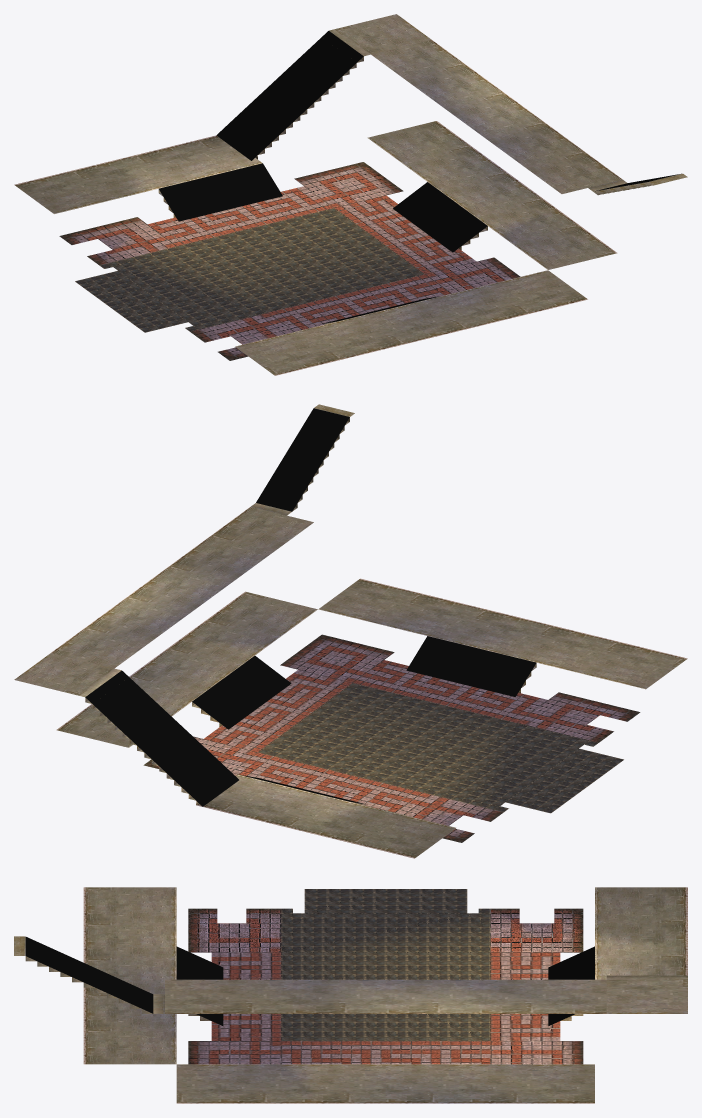
The model's file is M7_CourtYard.glb.
3 views of the same model, one above another, from view 1: azimuth 30°, elevation 25°; view 2: azimuth 150°, elevation 25°; view 3: azimuth 270°, elevation 25° (orthographic). The views are drawn at different scales.
Parts seen in each view (by area): view 1: M7_COURTYARD008, M7_COURTYARD005, M7_COURTYARD007, M7_COURTYARD004, M7_COURTYARD011, M7_COURTYARD006, M7_COURTYARD010, M7_COURTYARD003, M7_COURTYARD001, M7_COURTYARD009, M7_COURTYARD002, M7_COURTYARD; view 2: M7_COURTYARD005, M7_COURTYARD008, M7_COURTYARD004, M7_COURTYARD007, M7_COURTYARD011, M7_COURTYARD002, M7_COURTYARD006, M7_COURTYARD003, M7_COURTYARD001, M7_COURTYARD, M7_COURTYARD010, M7_COURTYARD009; view 3: M7_COURTYARD008, M7_COURTYARD005, M7_COURTYARD004, M7_COURTYARD006, M7_COURTYARD007, M7_COURTYARD003, M7_COURTYARD002, M7_COURTYARD, M7_COURTYARD009, M7_COURTYARD001, M7_COURTYARD010, M7_COURTYARD011.
Boxes of the visible parts, x1,y1,x2,y2 form: M7_COURTYARD008: [304, 40, 499, 273]; M7_COURTYARD005: [387, 90, 622, 293]; M7_COURTYARD007: [148, 163, 333, 311]; M7_COURTYARD004: [268, 208, 450, 331]; M7_COURTYARD011: [223, 14, 431, 185]; M7_COURTYARD006: [59, 224, 267, 321]; M7_COURTYARD010: [119, 125, 292, 221]; M7_COURTYARD003: [75, 271, 293, 360]; M7_COURTYARD001: [329, 289, 483, 350]; M7_COURTYARD009: [14, 159, 158, 235]; M7_COURTYARD002: [470, 173, 687, 324]; M7_COURTYARD: [231, 321, 378, 375]; M7_COURTYARD005: [122, 506, 383, 738]; M7_COURTYARD008: [51, 574, 351, 771]; M7_COURTYARD004: [258, 660, 547, 752]; M7_COURTYARD007: [231, 723, 516, 812]; M7_COURTYARD011: [14, 653, 232, 800]; M7_COURTYARD002: [251, 404, 468, 659]; M7_COURTYARD006: [394, 723, 578, 842]; M7_COURTYARD003: [505, 700, 639, 812]; M7_COURTYARD001: [400, 605, 577, 684]; M7_COURTYARD: [537, 632, 687, 711]; M7_COURTYARD010: [159, 769, 365, 831]; M7_COURTYARD009: [306, 801, 459, 858]; M7_COURTYARD008: [282, 979, 606, 1103]; M7_COURTYARD005: [165, 979, 454, 1103]; M7_COURTYARD004: [177, 946, 489, 1040]; M7_COURTYARD006: [282, 889, 582, 952]; M7_COURTYARD007: [282, 952, 574, 1040]; M7_COURTYARD003: [188, 889, 466, 952]; M7_COURTYARD002: [14, 936, 211, 1064]; M7_COURTYARD: [83, 887, 211, 952]; M7_COURTYARD009: [560, 887, 687, 952]; M7_COURTYARD001: [83, 946, 222, 1025]; M7_COURTYARD010: [548, 946, 687, 1015]; M7_COURTYARD011: [560, 975, 687, 1064].
Bounding box in the file's own units: 24 × 8.01 × 29.
7 materials, 6 textured.
